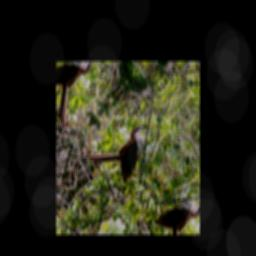Cuckoo: (93, 104, 161, 186)
